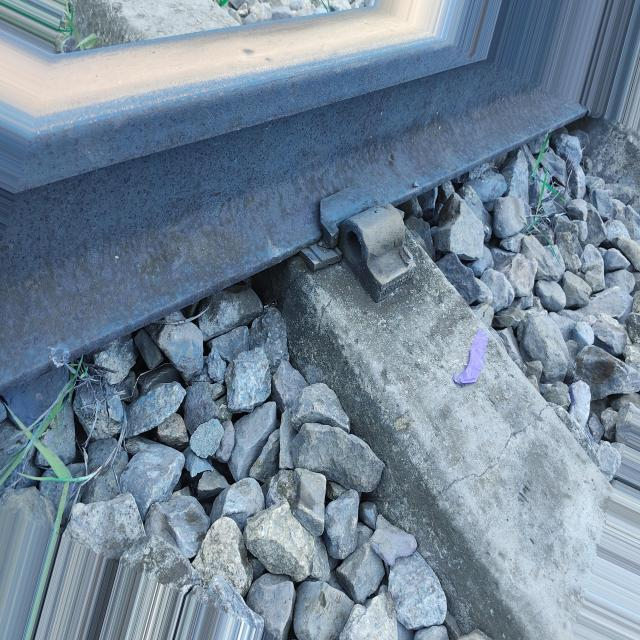Missing Fastener: (299, 169, 450, 320)
